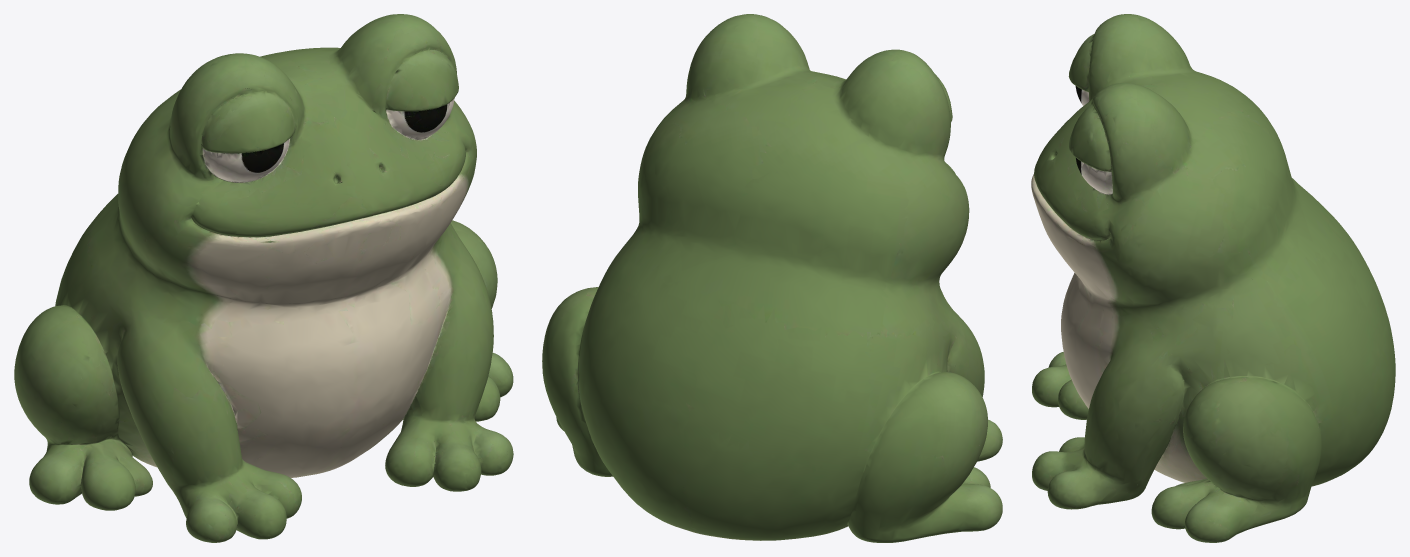
The model's file is frog.glb.
3 renders of one model, left to right at view 1: azimuth 30°, elevation 25°; view 2: azimuth 150°, elevation 25°; view 3: azimuth 270°, elevation 25°, orthographic. The views are drawn at different scales.
Visible parts, largest first — view 1: Mesh_0; view 2: Mesh_0; view 3: Mesh_0.
Part boxes in pixels (<box>): Mesh_0: <box>14,14,513,542</box>; Mesh_0: <box>542,14,1002,542</box>; Mesh_0: <box>1031,14,1395,542</box>.
Size of the model in its own units: 0.0901 by 0.08 by 0.0675.
Materials: 1 (1 with a texture image).
